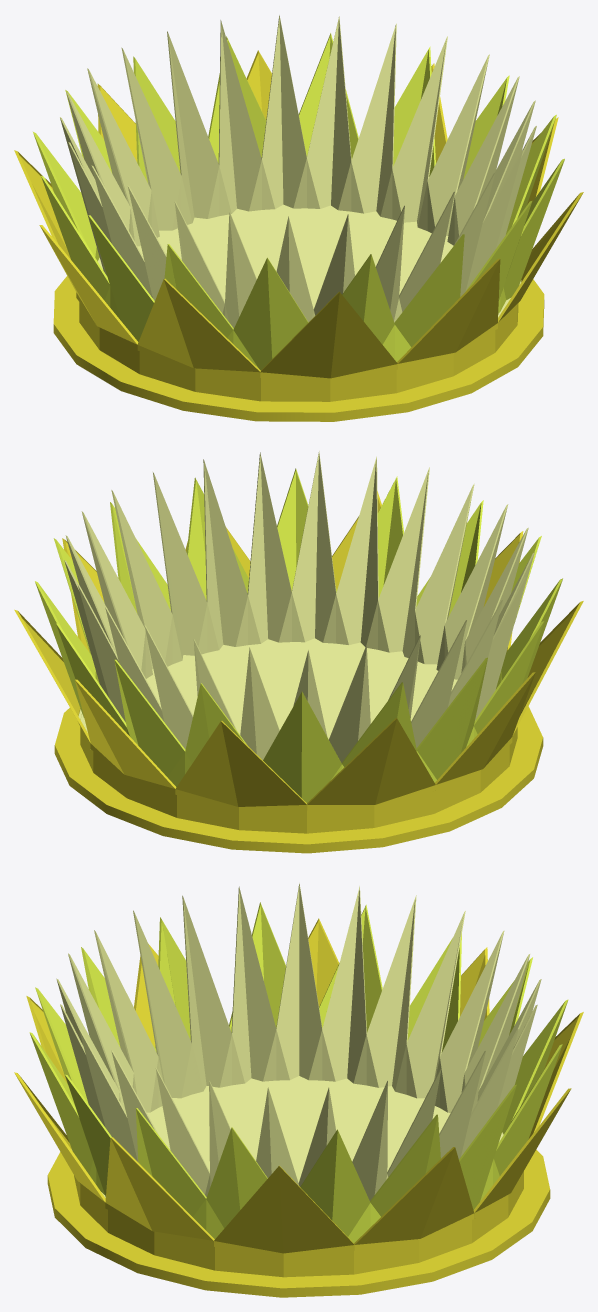
File: portal_000039.obj
3 renders of one model, top to bottom at view 1: azimuth 30°, elevation 25°; view 2: azimuth 150°, elevation 25°; view 3: azimuth 270°, elevation 25°, orthographic. The views are drawn at different scales.
Visible parts, largest first — view 1: Cylinder.001, pCylinder1, Cylinder; view 2: Cylinder.001, pCylinder1, Cylinder; view 3: Cylinder.001, pCylinder1, Cylinder.
Boxes of the visible parts, x1,y1,x2,y2 form: Cylinder.001: [60, 15, 536, 328]; pCylinder1: [14, 50, 583, 421]; Cylinder: [33, 33, 564, 370]; Cylinder.001: [64, 451, 534, 762]; pCylinder1: [14, 491, 583, 853]; Cylinder: [35, 468, 562, 802]; Cylinder.001: [56, 883, 541, 1200]; pCylinder1: [14, 918, 583, 1297]; Cylinder: [29, 902, 568, 1242].
Bounding box in the file's own units: 7.43 × 2.9 × 7.22.
Materials: 3 (3 with a texture image).
